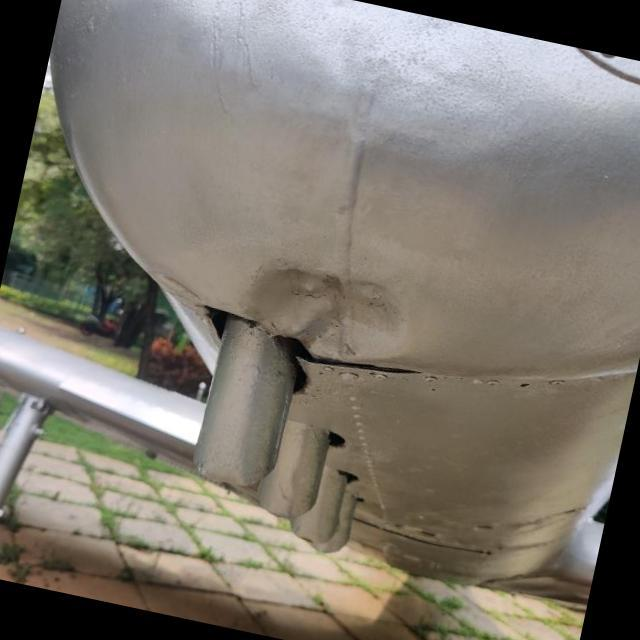Dent: (216, 236, 432, 394)
